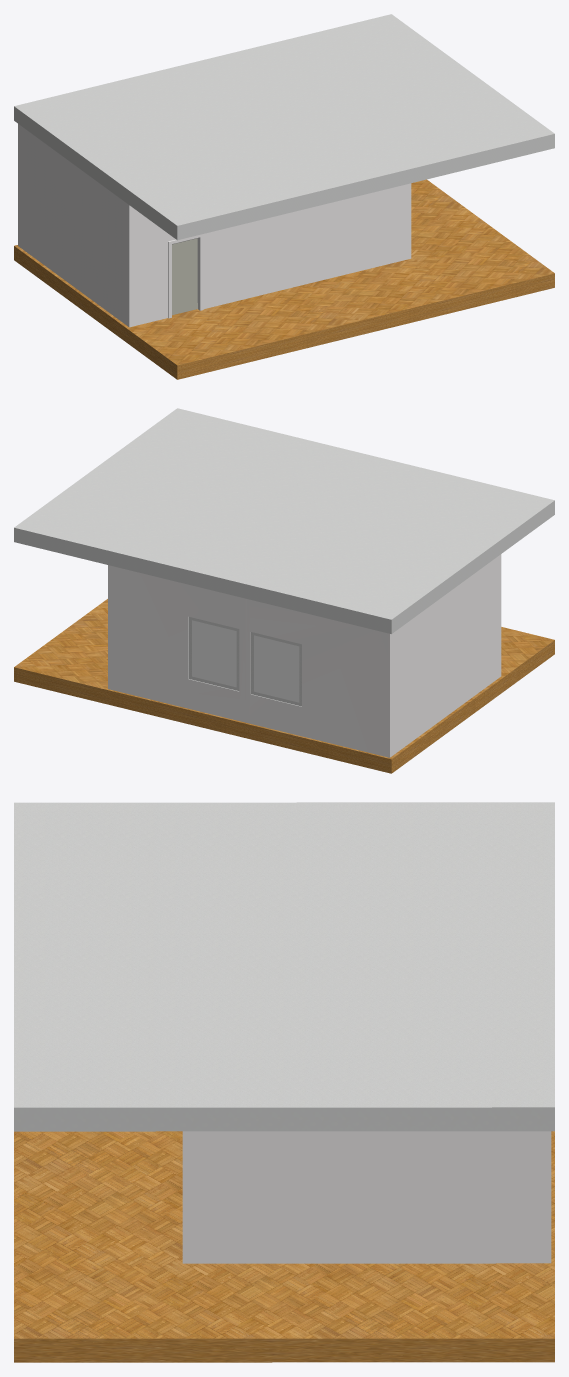
Rendered from FloorPlan213_physics.fbx.
The picture shows the model from 3 angles, top to bottom: view 1: azimuth 30°, elevation 25°; view 2: azimuth 150°, elevation 25°; view 3: azimuth 270°, elevation 25°; orthographic projection. The views are drawn at different scales.
Visible parts, largest first — view 1: FP213:Cube.985, FP213:polySurface23, FP213:Floor, FP213:polySurface18, FP213:polySurface24; view 2: FP213:Cube.985, FP213:polySurface23, FP213:Floor, FP213:polySurface1, FP213:polySurface2; view 3: FP213:Cube.985, FP213:Floor, FP213:polySurface23.
Part boxes in pixels (box(x1,y1,x2,y2)): FP213:Cube.985: box(14, 14, 554, 240); FP213:polySurface23: box(18, 124, 411, 327); FP213:Floor: box(14, 179, 554, 379); FP213:polySurface18: box(172, 238, 197, 315); FP213:polySurface24: box(168, 234, 203, 318); FP213:Cube.985: box(14, 408, 554, 633); FP213:polySurface23: box(108, 554, 501, 757); FP213:Floor: box(14, 599, 554, 773); FP213:polySurface1: box(254, 635, 299, 702); FP213:polySurface2: box(192, 620, 236, 687); FP213:Cube.985: box(14, 802, 554, 1131); FP213:Floor: box(14, 1131, 554, 1362); FP213:polySurface23: box(182, 1131, 551, 1263).
Size of the model in its own units: 1076 by 419 by 806.
